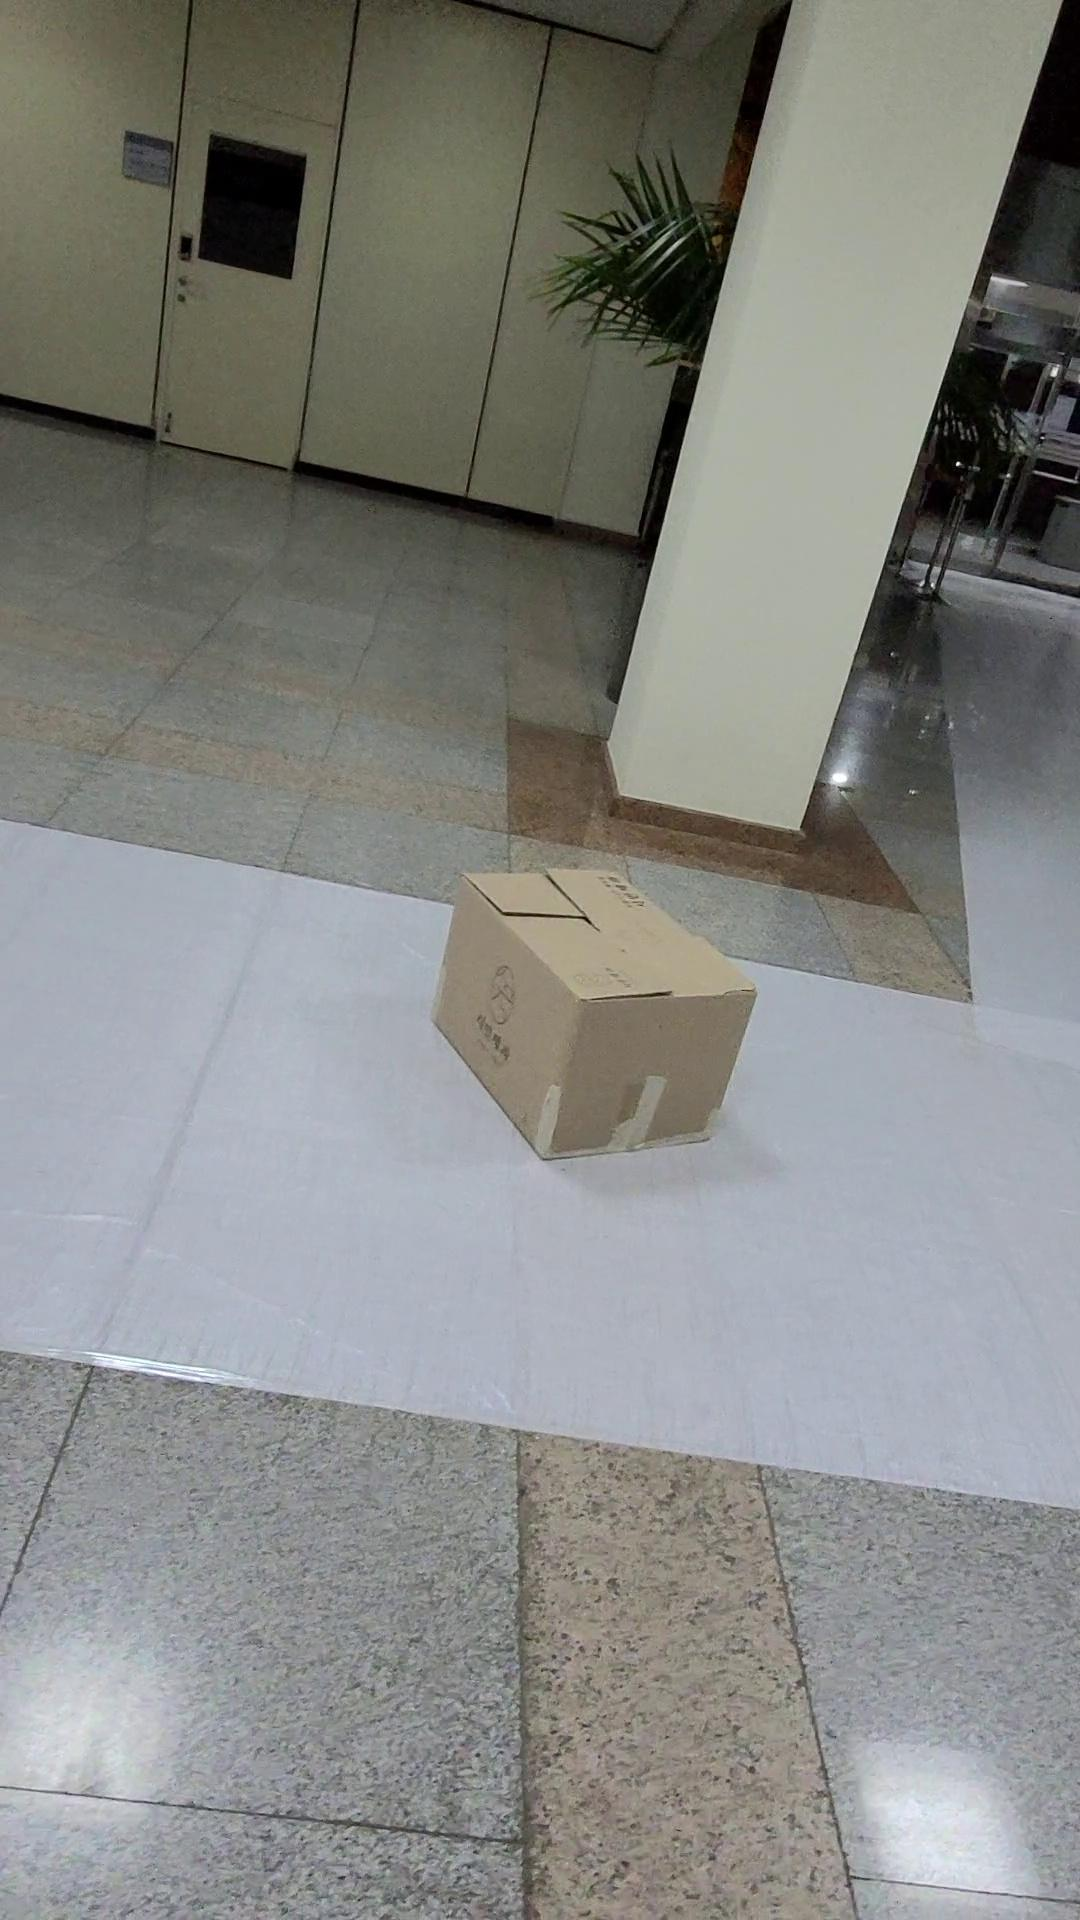Box: (401, 843, 782, 1185)
